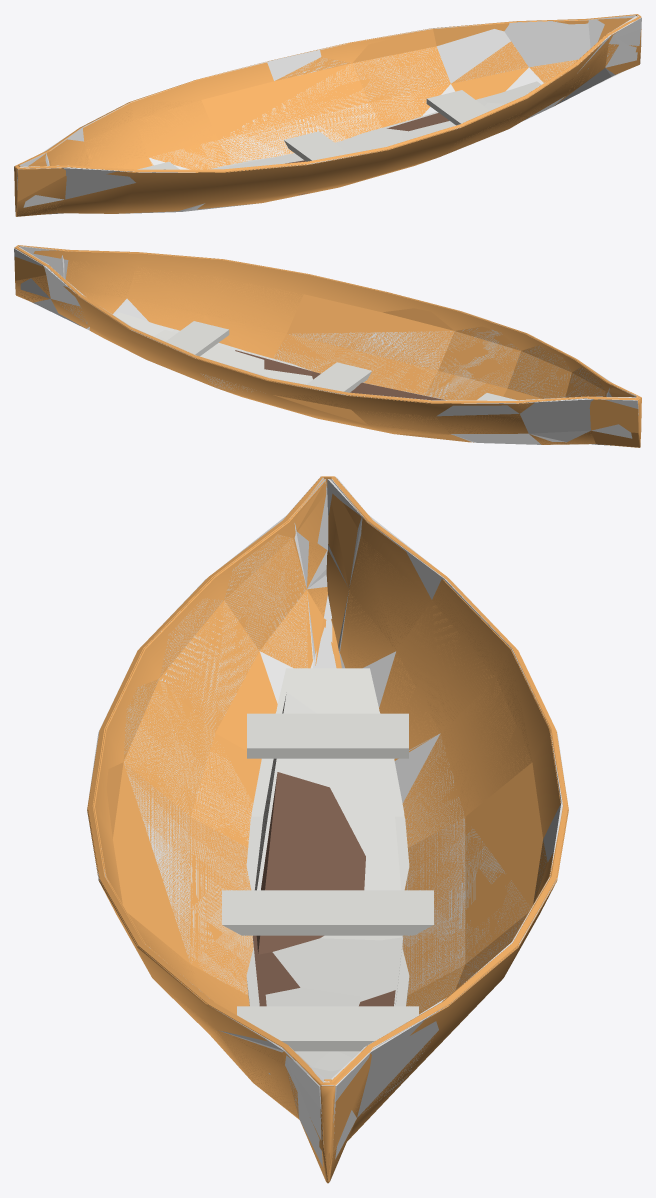
Rendered from lifeboat1.fbx.
The picture shows the model from 3 angles, top to bottom: view 1: azimuth 30°, elevation 25°; view 2: azimuth 150°, elevation 25°; view 3: azimuth 270°, elevation 25°; orthographic projection. The views are drawn at different scales.
Parts seen in each view (by area): view 1: Bote_Casco, Bote_Casco_LP, Bote_Casco_LP_LP_LP, Bote_Casco_LP_LP, Piso_Interno_LP, Banco_Proa, Banco_Centro, Piso_Interno, Piso_Interno_LP_LP; view 2: Bote_Casco, Bote_Casco_LP, Bote_Casco_LP_LP, Bote_Casco_LP_LP_LP, Piso_Interno_LP, Banco_Proa, Banco_Centro, Piso_Interno, Piso_Interno_LP_LP_LP, Piso_Interno_LP_LP; view 3: Bote_Casco_LP, Bote_Casco, Bote_Casco_LP_LP, Piso_Interno_LP, Bote_Casco_LP_LP_LP, Piso_Interno_LP_LP_LP, Banco_Centro, Piso_Interno, Banco_Popa, Banco_Proa, Piso_Interno_LP_LP.
Boxes of the visible parts, x1,y1,x2,y2 form: Bote_Casco: (14,14,641,216); Bote_Casco_LP: (14,14,641,216); Bote_Casco_LP_LP_LP: (14,15,641,214); Bote_Casco_LP_LP: (17,15,641,213); Piso_Interno_LP: (215,102,505,169); Banco_Proa: (426,90,490,125); Banco_Centro: (284,131,349,161); Piso_Interno: (209,81,541,169); Piso_Interno_LP_LP: (387,113,449,131); Bote_Casco: (14,245,641,447); Bote_Casco_LP: (14,246,641,447); Bote_Casco_LP_LP: (16,246,636,444); Bote_Casco_LP_LP_LP: (14,246,638,445); Piso_Interno_LP: (152,329,446,400); Banco_Proa: (166,321,229,356); Banco_Centro: (306,362,371,392); Piso_Interno: (114,312,438,398); Piso_Interno_LP_LP_LP: (312,372,445,400); Piso_Interno_LP_LP: (235,350,320,375); Bote_Casco_LP: (87,477,568,1182); Bote_Casco: (87,476,568,1183); Bote_Casco_LP_LP: (88,477,567,1183); Piso_Interno_LP: (252,692,402,1071); Bote_Casco_LP_LP_LP: (97,477,515,1166); Piso_Interno_LP_LP_LP: (256,772,365,954); Banco_Centro: (222,890,433,935); Piso_Interno: (246,668,409,1079); Banco_Popa: (247,713,408,758); Banco_Proa: (237,1006,418,1051); Piso_Interno_LP_LP: (252,703,395,1006).
Size of the model in its own units: 740 by 101 by 247.
